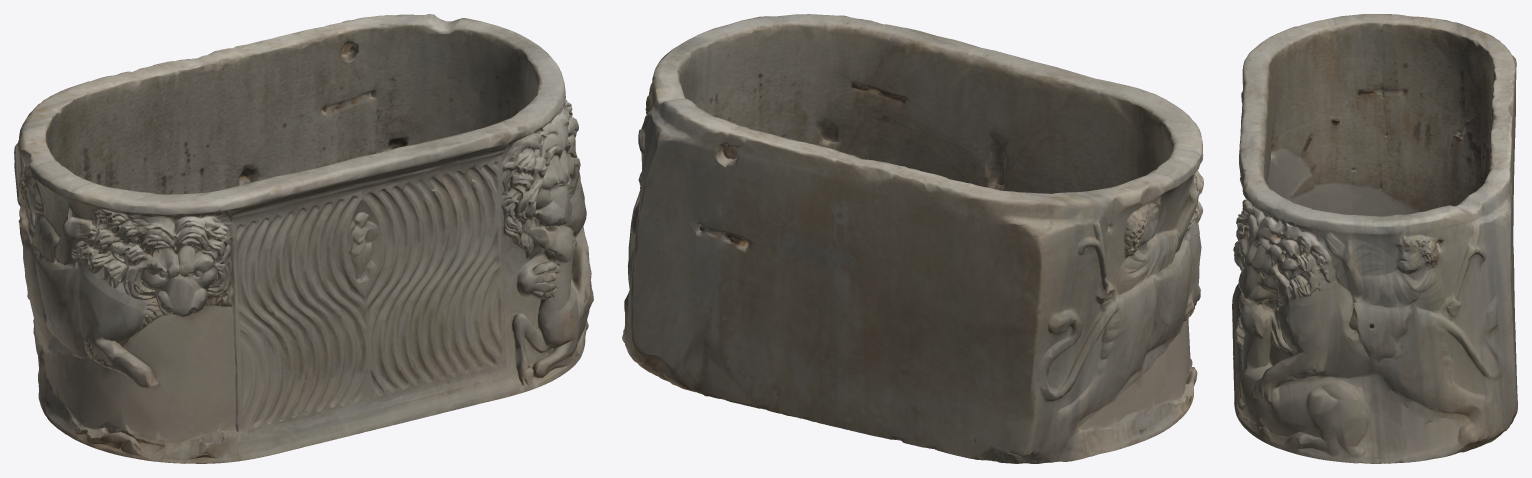
File: marble_sarcophagus_with_lions_felling_antelope.glb
3 renders of one model, left to right at view 1: azimuth 30°, elevation 25°; view 2: azimuth 150°, elevation 25°; view 3: azimuth 270°, elevation 25°, orthographic. The views are drawn at different scales.
Visible parts, largest first — view 1: KraussSarcophagusMetashape_KraussSarcophagusMetashape_n3d; view 2: KraussSarcophagusMetashape_KraussSarcophagusMetashape_n3d; view 3: KraussSarcophagusMetashape_KraussSarcophagusMetashape_n3d.
Boxes of the visible parts, bbox=[...] form: KraussSarcophagusMetashape_KraussSarcophagusMetashape_n3d: bbox=[14, 14, 593, 463]; KraussSarcophagusMetashape_KraussSarcophagusMetashape_n3d: bbox=[622, 14, 1203, 463]; KraussSarcophagusMetashape_KraussSarcophagusMetashape_n3d: bbox=[1232, 14, 1517, 463].
Bounding box in the file's own units: 2.26 × 1.1 × 1.22.
1 material, 1 textured.
